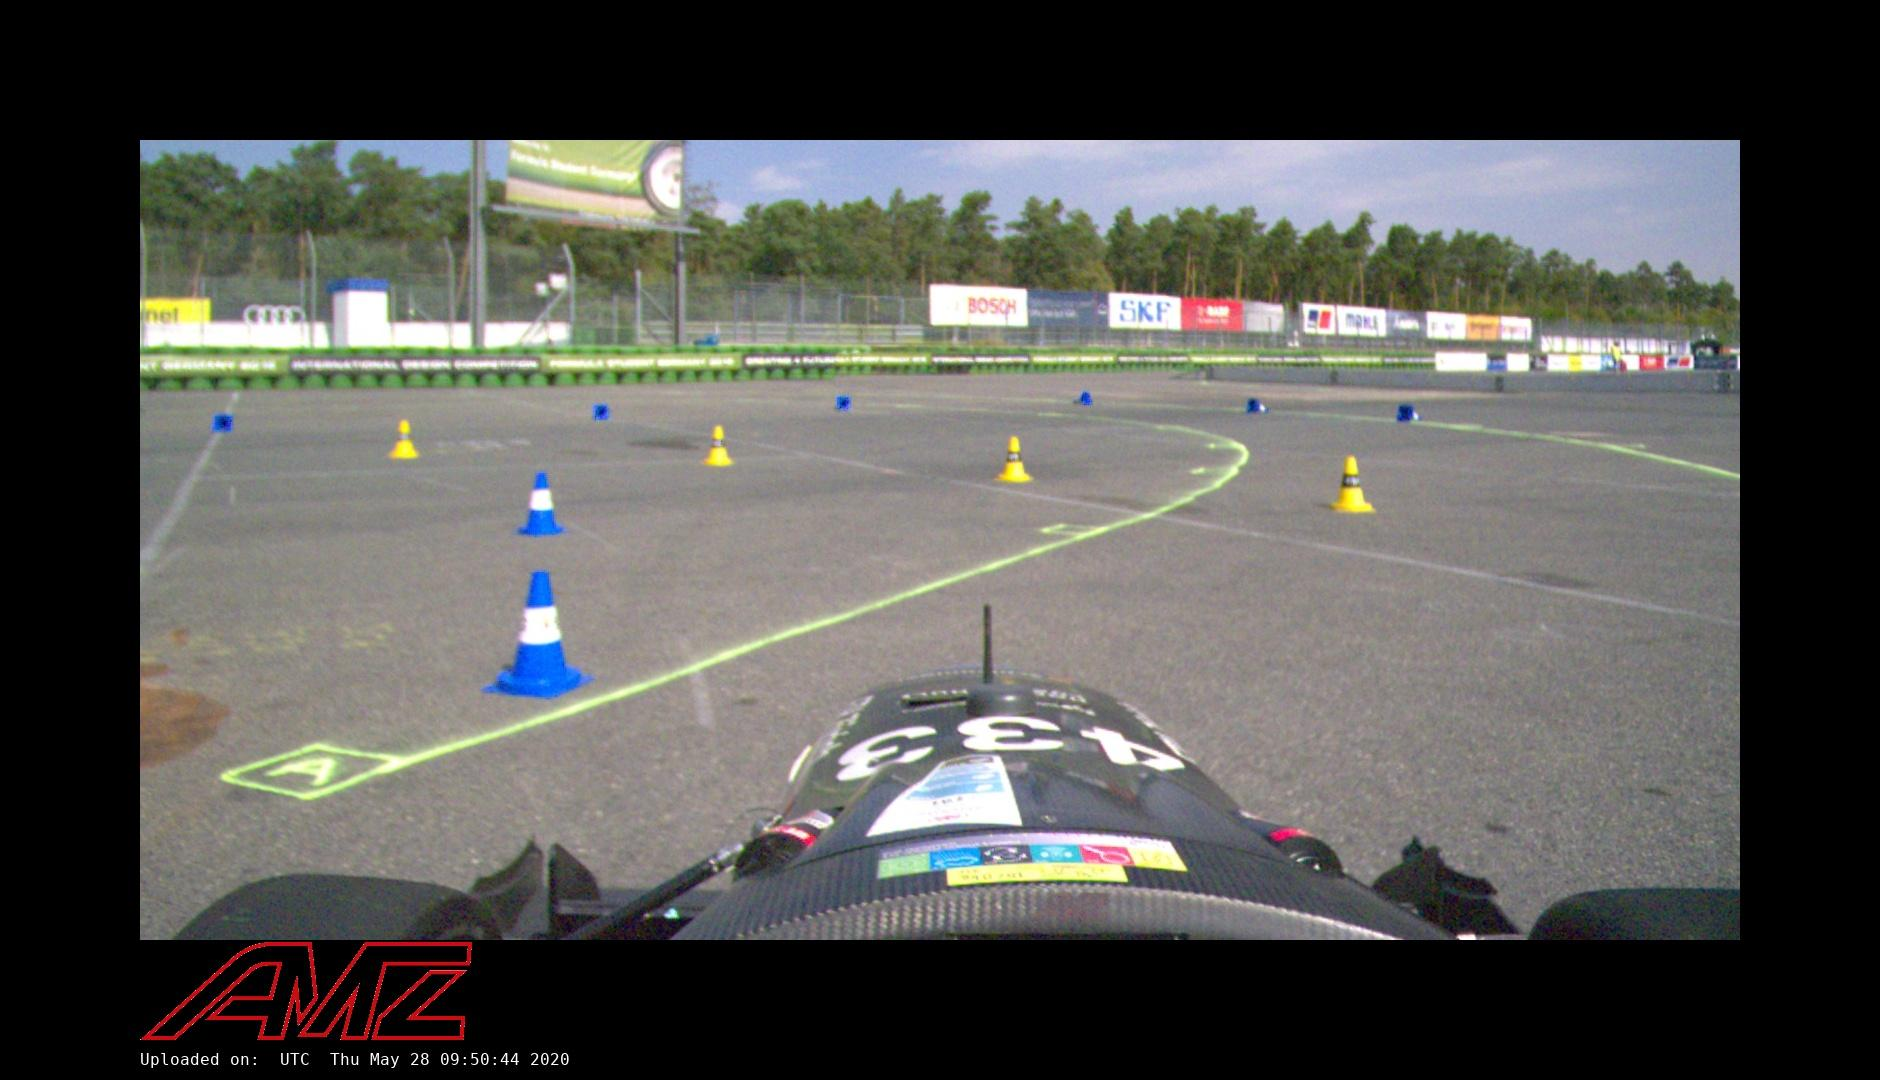blue_cone: (482, 571, 595, 699), (513, 472, 572, 537), (1396, 404, 1423, 422), (210, 413, 235, 433), (1245, 398, 1271, 413), (591, 402, 609, 421), (833, 395, 852, 412), (1072, 391, 1092, 406)
yellow_cone: (1330, 453, 1375, 514), (994, 437, 1033, 483), (701, 424, 736, 466), (387, 420, 421, 459)
